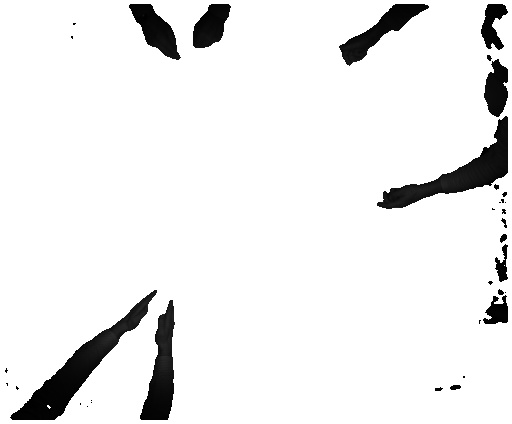fist: (336, 34, 374, 71), (192, 17, 231, 47)
hand: (139, 17, 183, 63), (376, 184, 423, 215)
spine: (113, 288, 159, 334), (156, 301, 175, 355)
